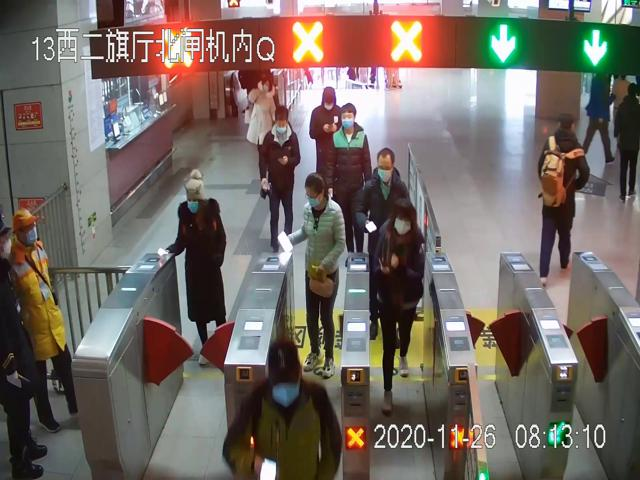person: (8, 208, 76, 434), (167, 170, 228, 367), (288, 172, 344, 378), (372, 199, 425, 412), (537, 113, 588, 283), (328, 104, 374, 258), (260, 107, 301, 254), (246, 76, 279, 196)
